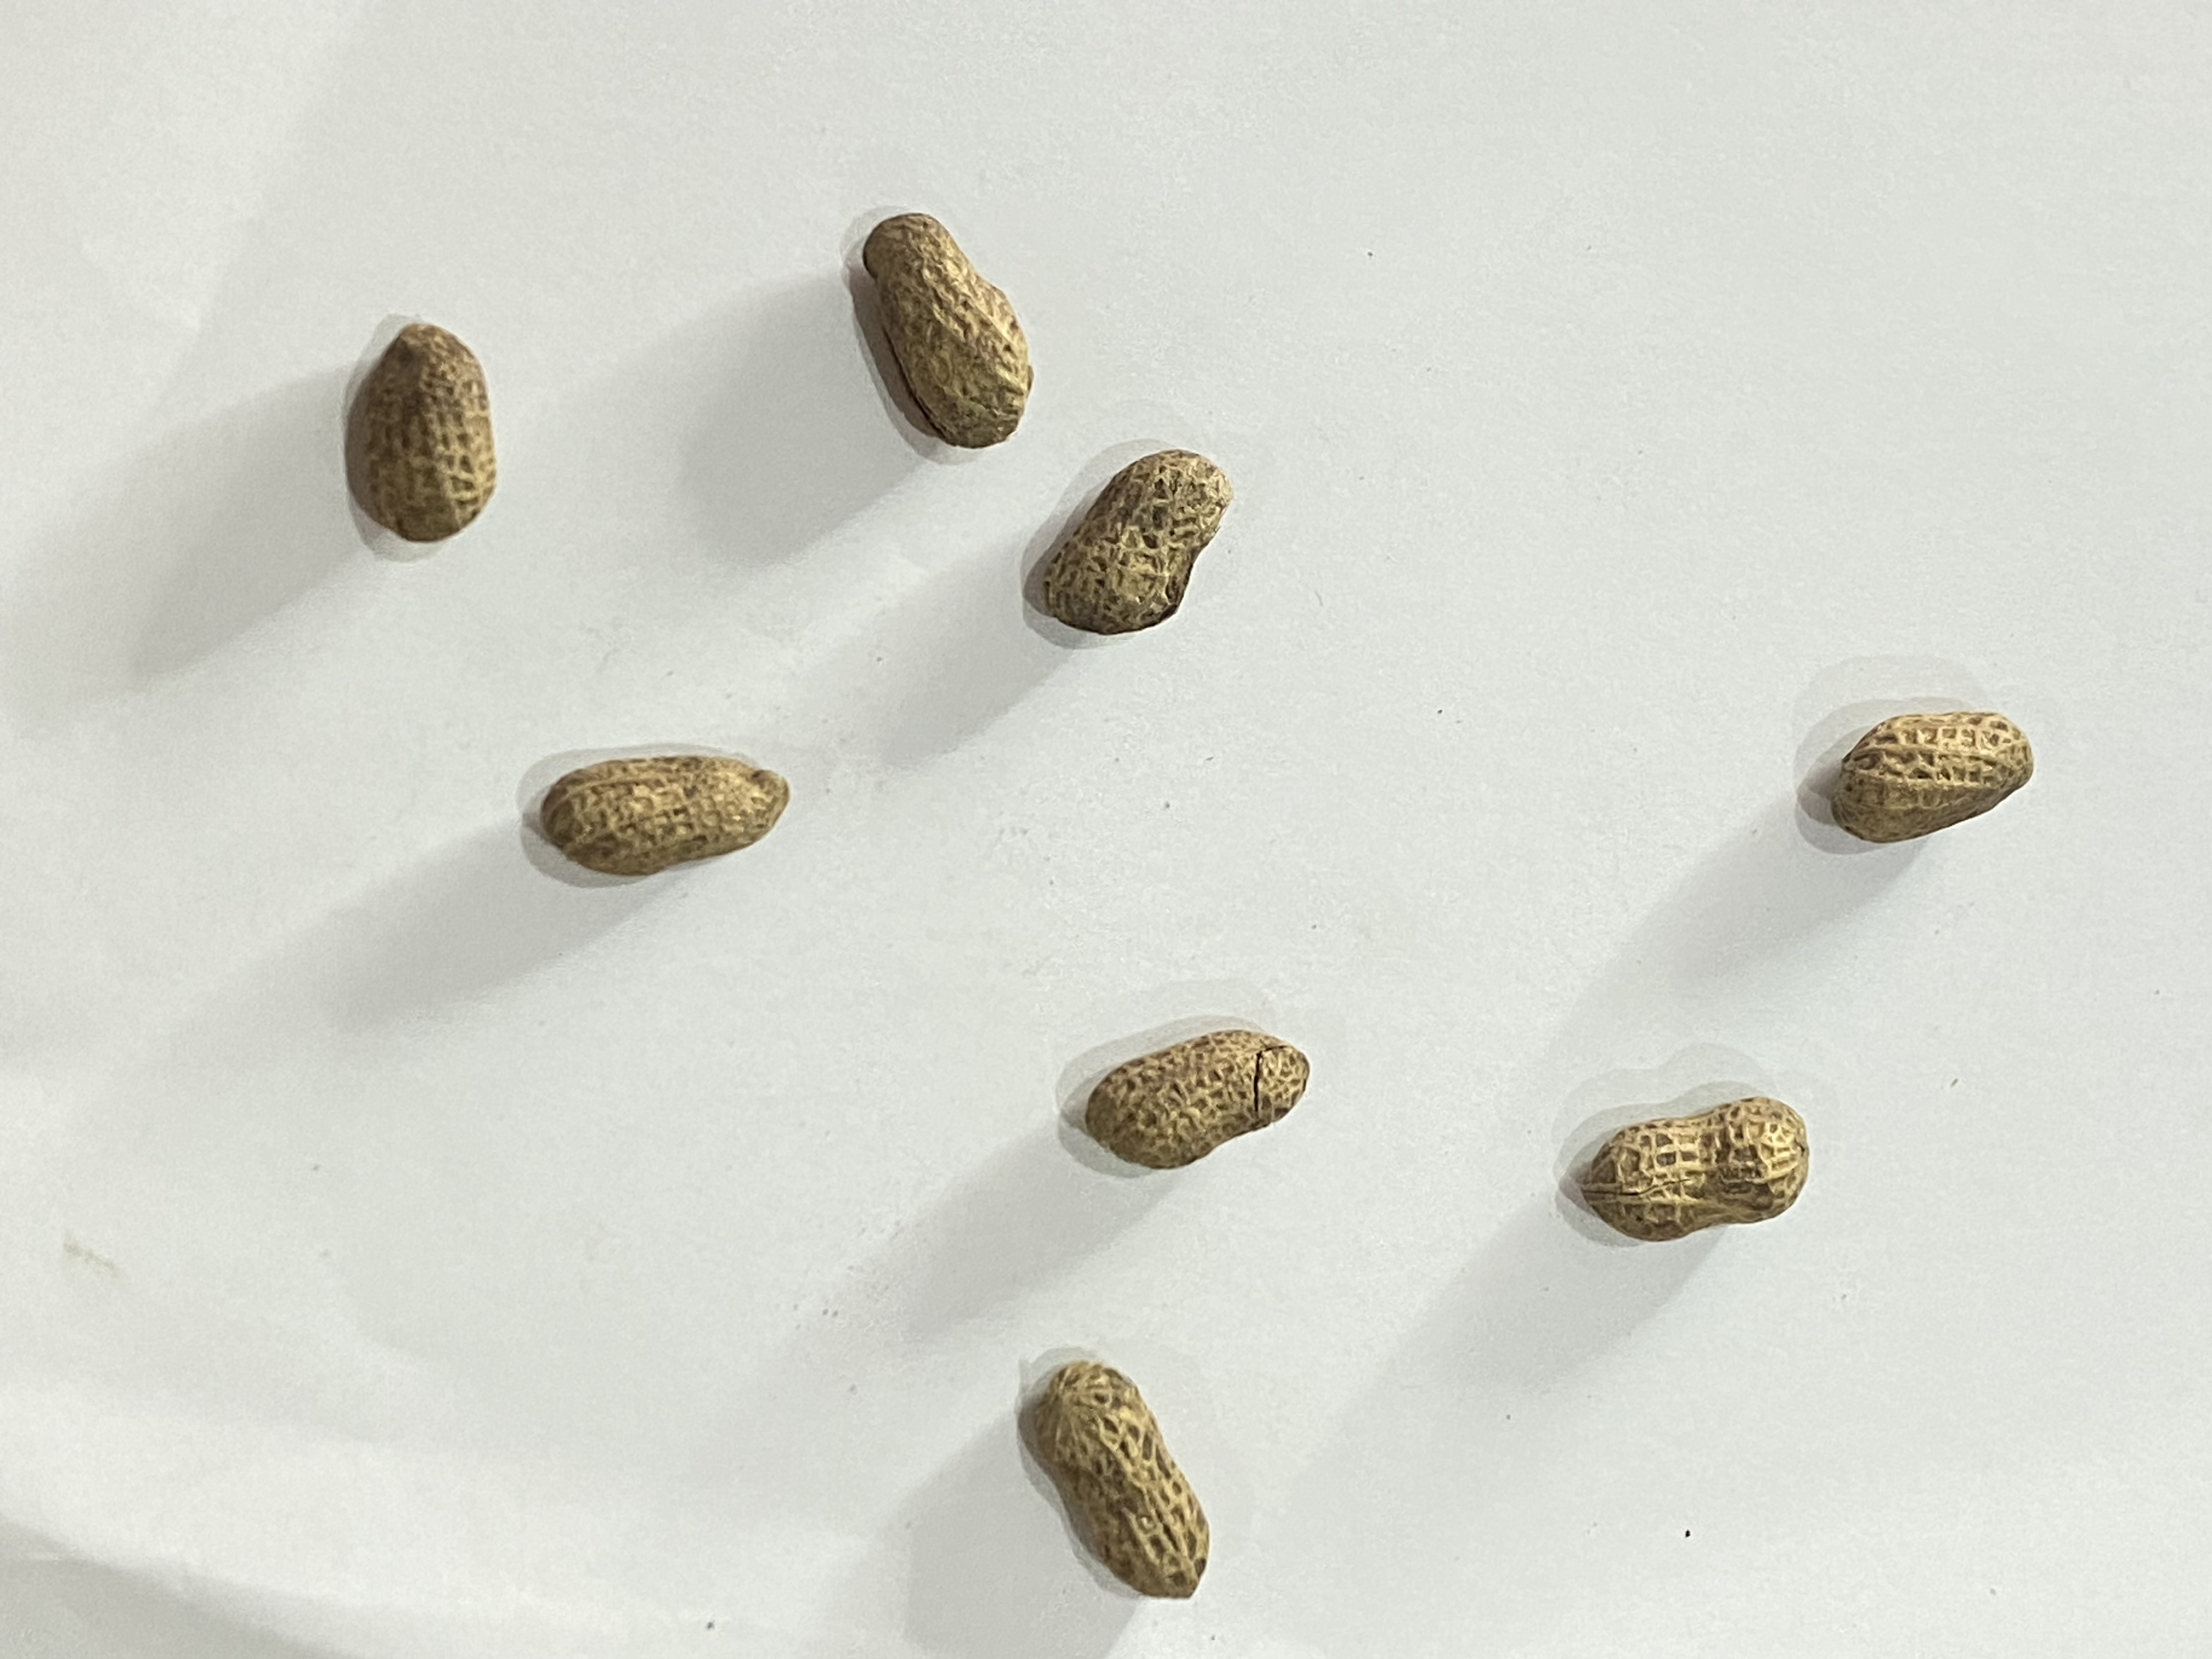kacang1: (310, 310, 550, 580), (1045, 1002, 1386, 1182), (1036, 443, 1285, 643), (1773, 706, 2085, 843)
kacang2: (958, 1358, 1287, 1607), (792, 160, 1066, 448), (1580, 1086, 1888, 1260), (509, 716, 794, 877)
